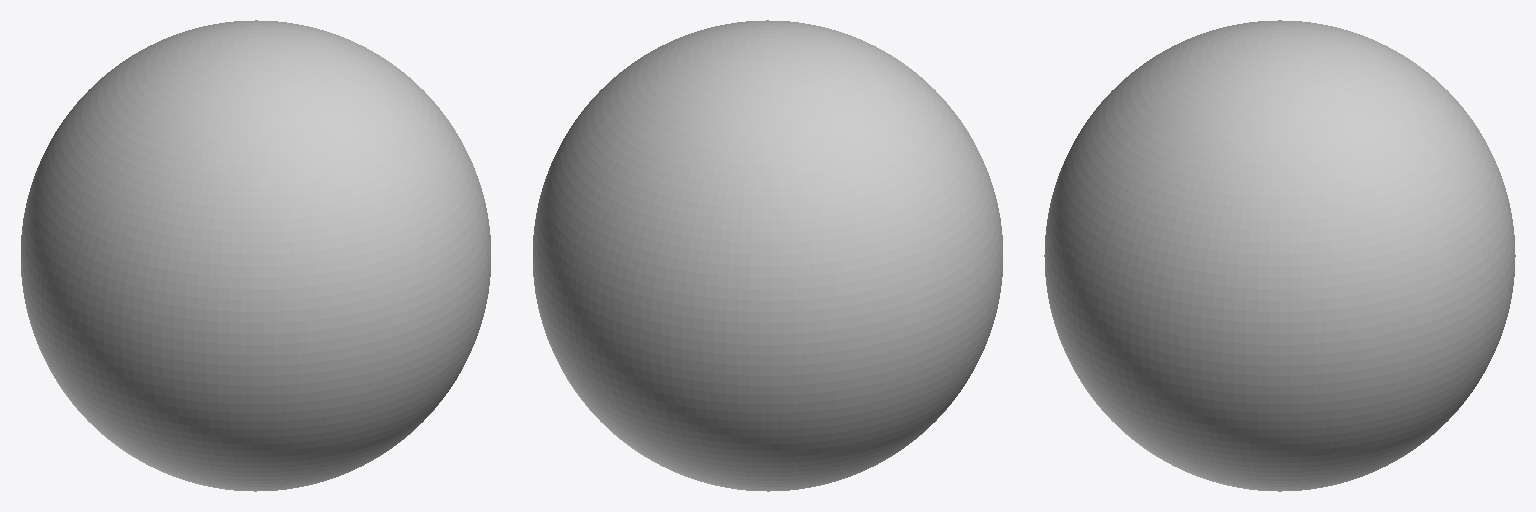
The model's file is skybox.obj.
3 renders of one model, left to right at view 1: azimuth 30°, elevation 25°; view 2: azimuth 150°, elevation 25°; view 3: azimuth 270°, elevation 25°, orthographic.
Visible parts, largest first — view 1: Sphere; view 2: Sphere; view 3: Sphere.
Boxes of the visible parts, <box> form: Sphere: <box>21,20,490,491</box>; Sphere: <box>533,20,1002,491</box>; Sphere: <box>1044,20,1515,491</box>.
Bounding box in the file's own units: 73.42 × 73.42 × 73.42.